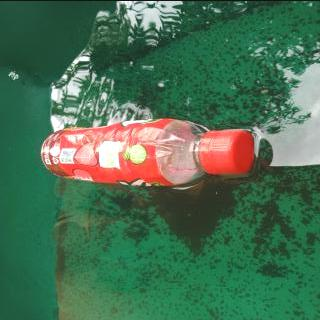bottle: (38, 116, 256, 188)
